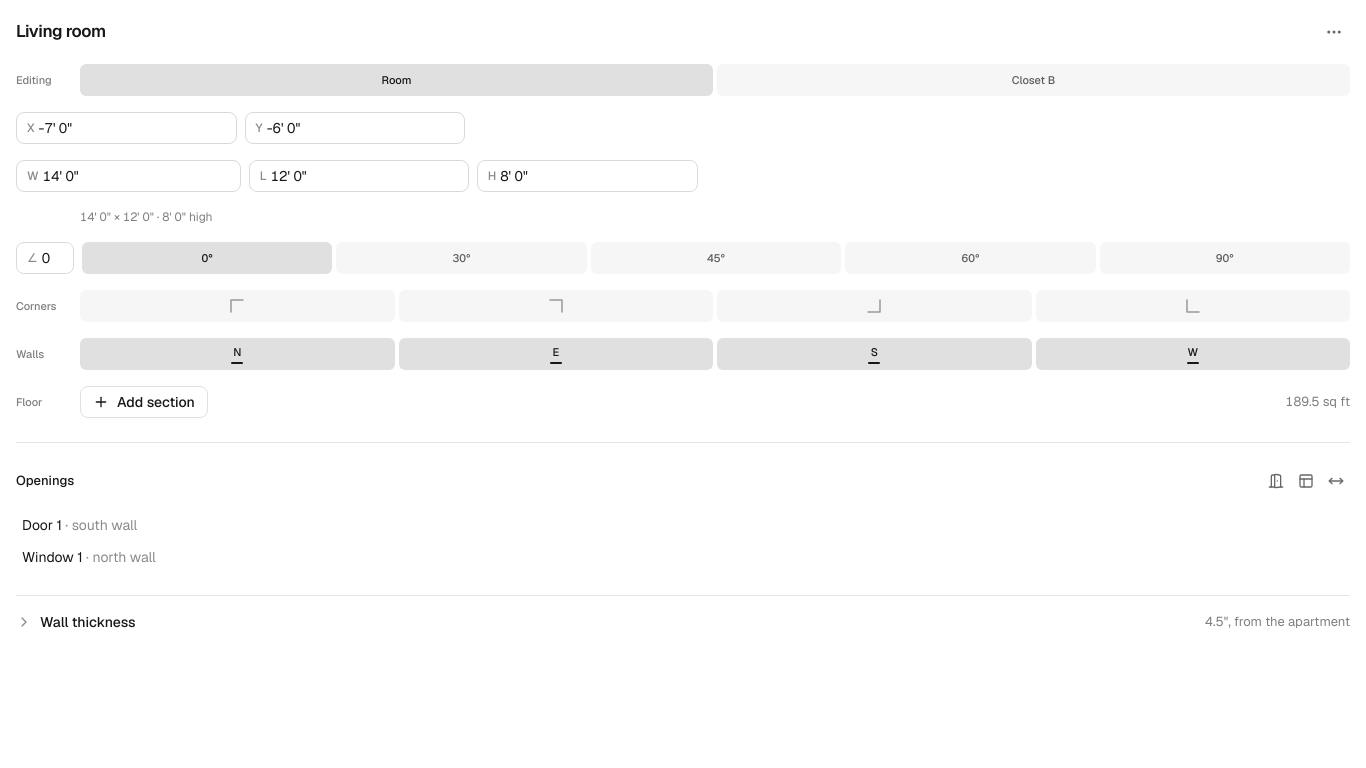
the room panel's menu › deletes the room only from its own item
Click the button named "Living room actions" at (1334, 32), box [1318, 16, 1350, 48]
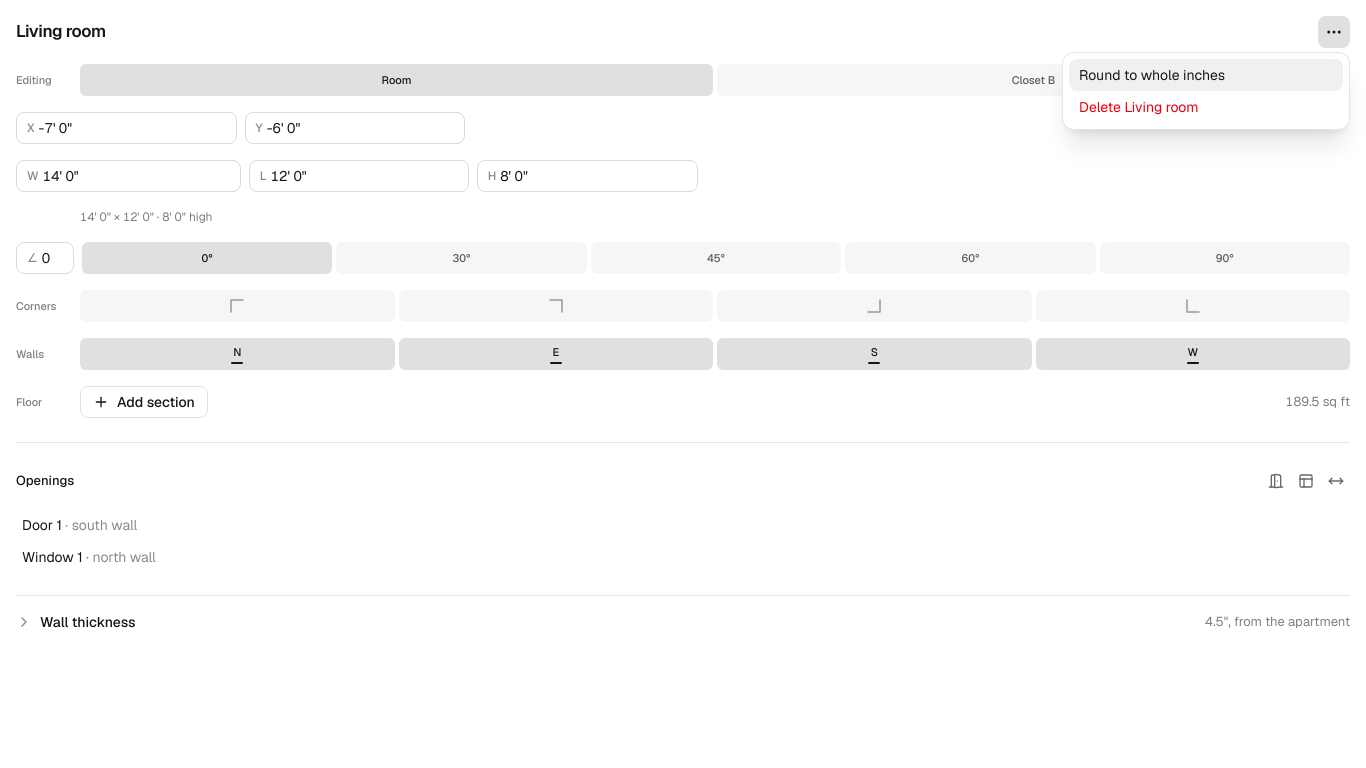
Click the menu item "Delete Living room" at (1139, 107), box [1069, 91, 1343, 123]
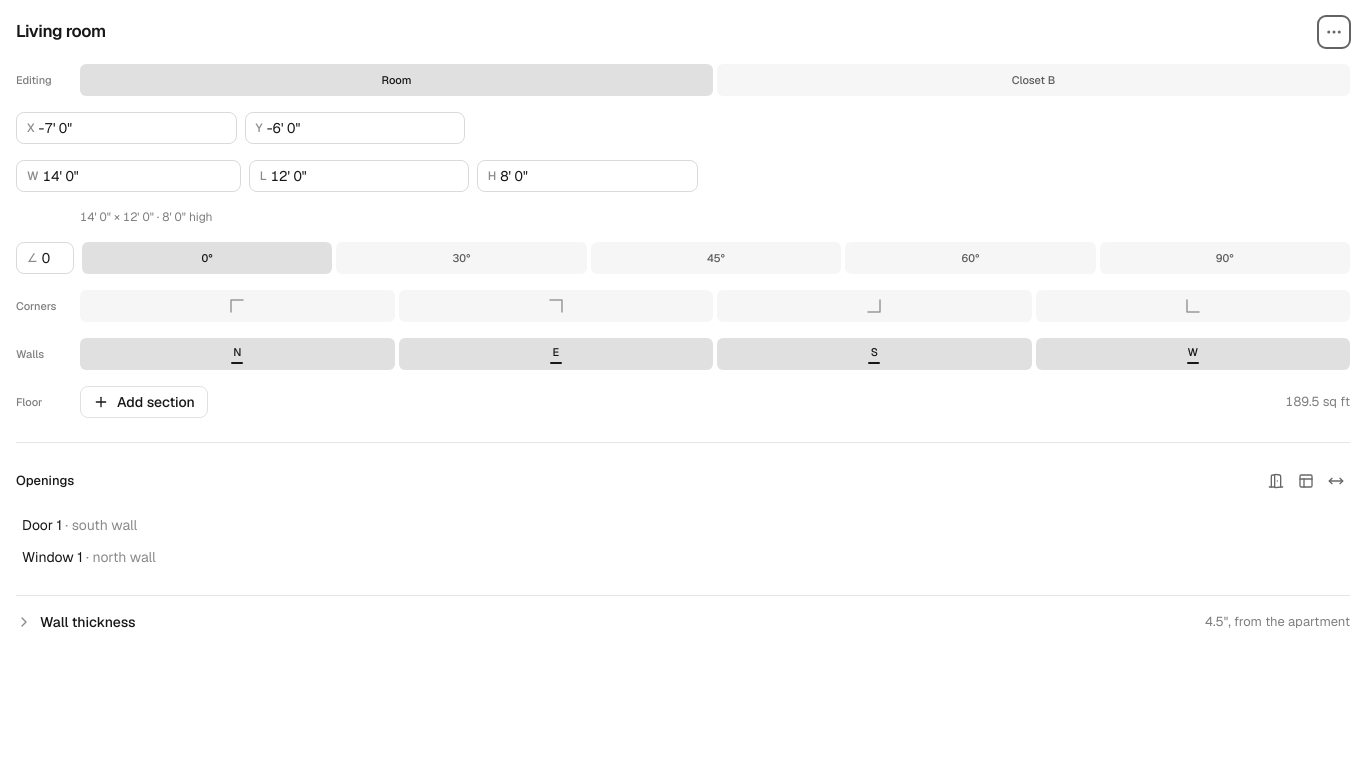
Expected: the menu is gone
